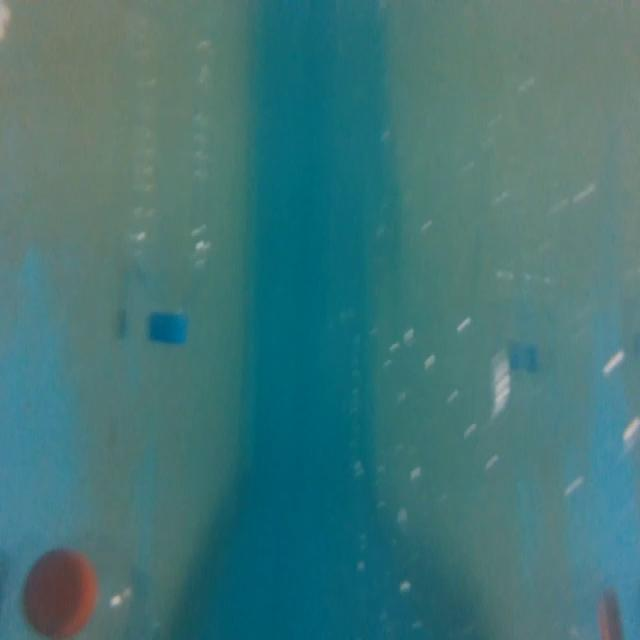plastic bottle: (110, 4, 234, 351), (11, 521, 174, 640)
